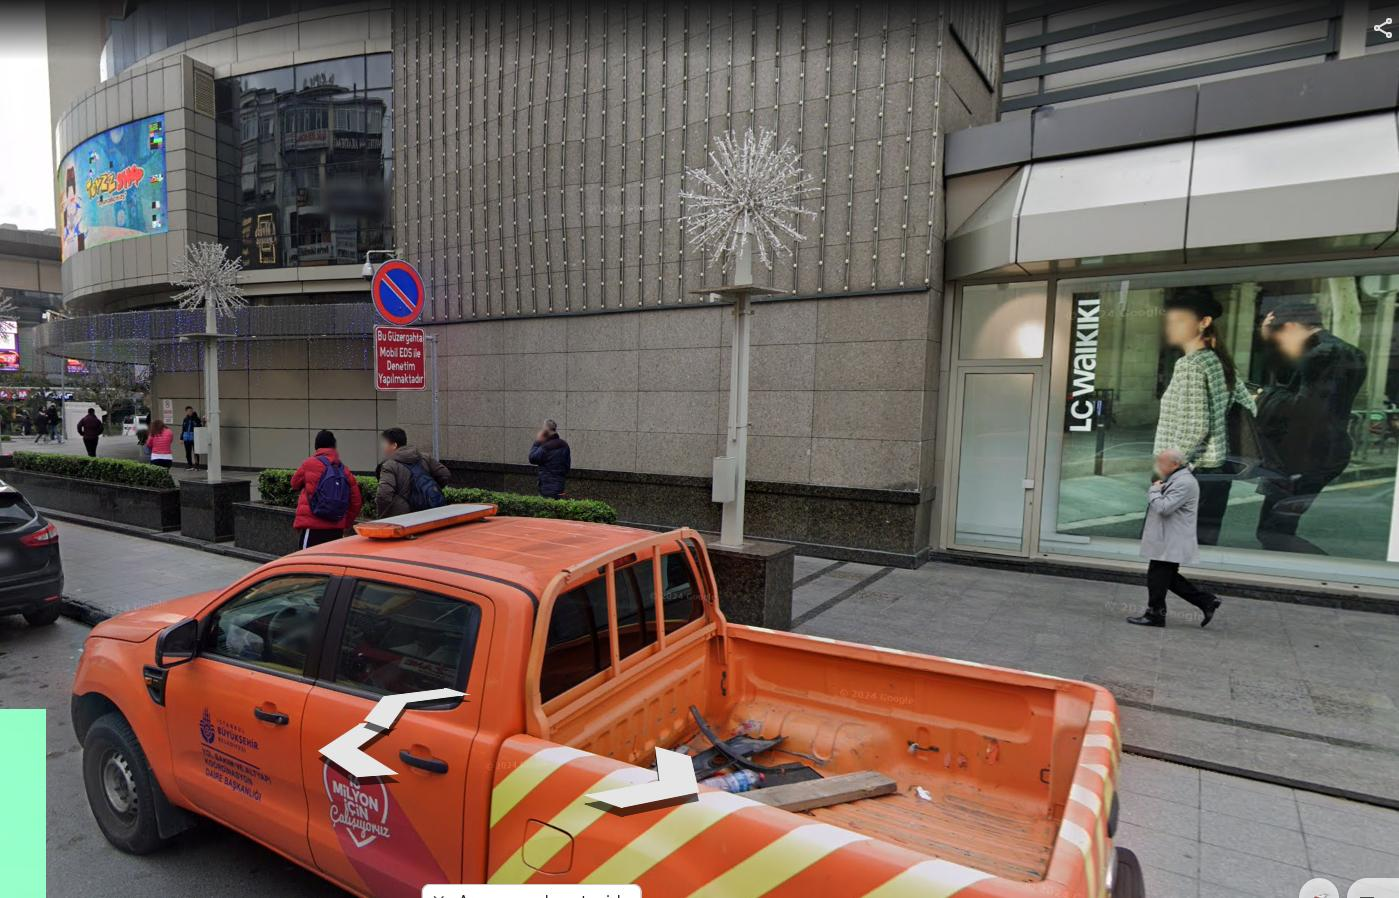nopark: (372, 262, 424, 325)
